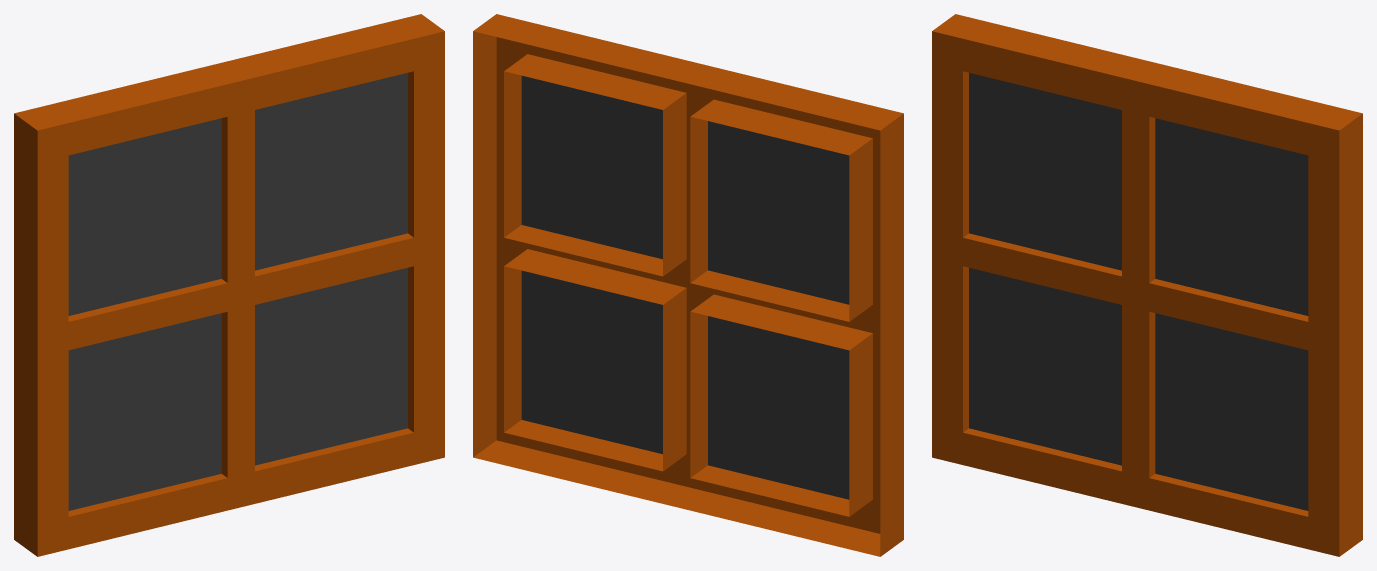
File: Window1.FBX
The picture shows the model from 3 angles, left to right: view 1: azimuth 30°, elevation 25°; view 2: azimuth 150°, elevation 25°; view 3: azimuth 330°, elevation 25°; orthographic projection.
Visible parts, largest first — view 1: Plane198; view 2: Plane198; view 3: Plane198.
Boxes of the visible parts, left/top/right/bottom form: Plane198: left=14, top=14, right=444, bottom=556; Plane198: left=473, top=14, right=903, bottom=556; Plane198: left=932, top=14, right=1362, bottom=556.
Size of the model in its own units: 100 by 100 by 10.
